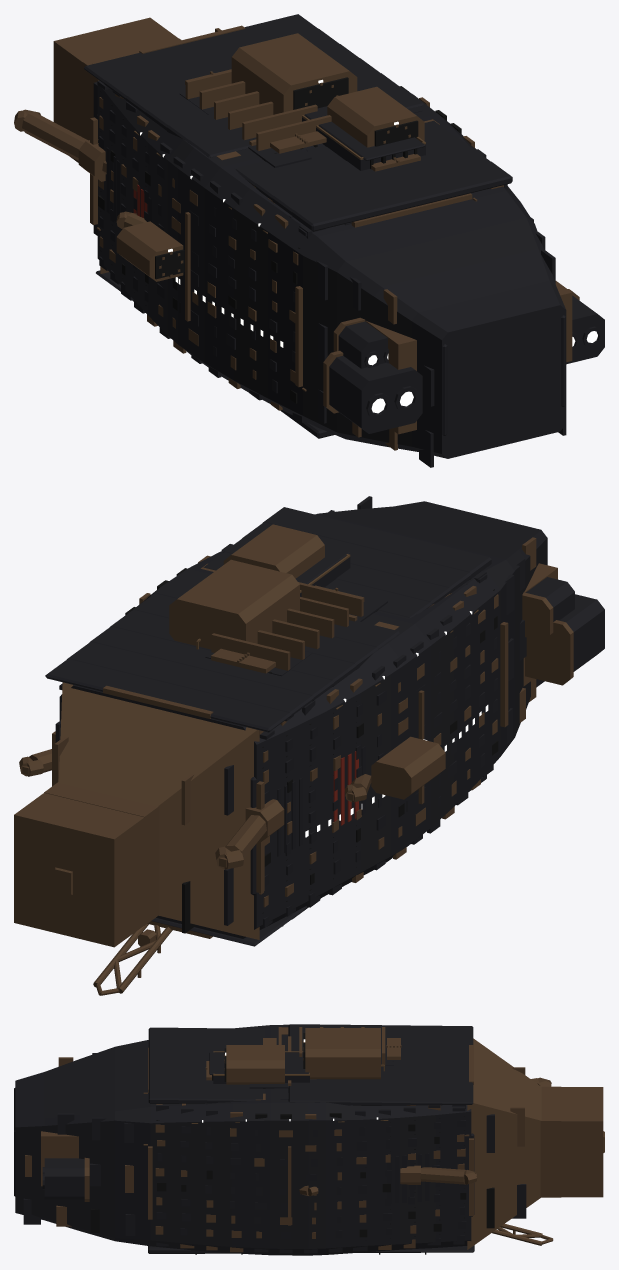
3 views of the same model, one above another, from view 1: azimuth 30°, elevation 25°; view 2: azimuth 150°, elevation 25°; view 3: azimuth 270°, elevation 25° (orthographic). The views are drawn at different scales.
Parts seen in each view (by area): view 1: RIMWARD_HULL, RIMWARD_EMISSIVE; view 2: RIMWARD_HULL; view 3: RIMWARD_HULL.
Part boxes in pixels (<box>): RIMWARD_HULL: <box>14,14,604,467</box>; RIMWARD_EMISSIVE: <box>140,79,597,413</box>; RIMWARD_HULL: <box>14,496,604,995</box>; RIMWARD_HULL: <box>14,1024,604,1255</box>.
Bounding box in the file's own units: 7.22 × 6.67 × 17.14.
